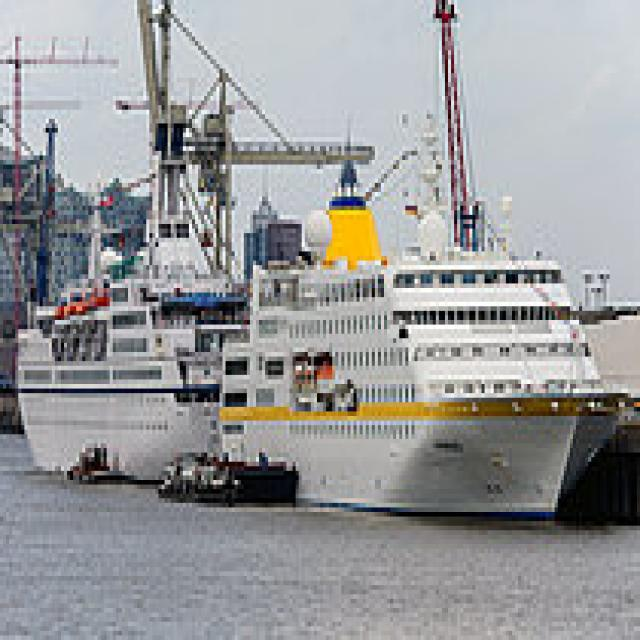Ship: (214, 212, 623, 541)
